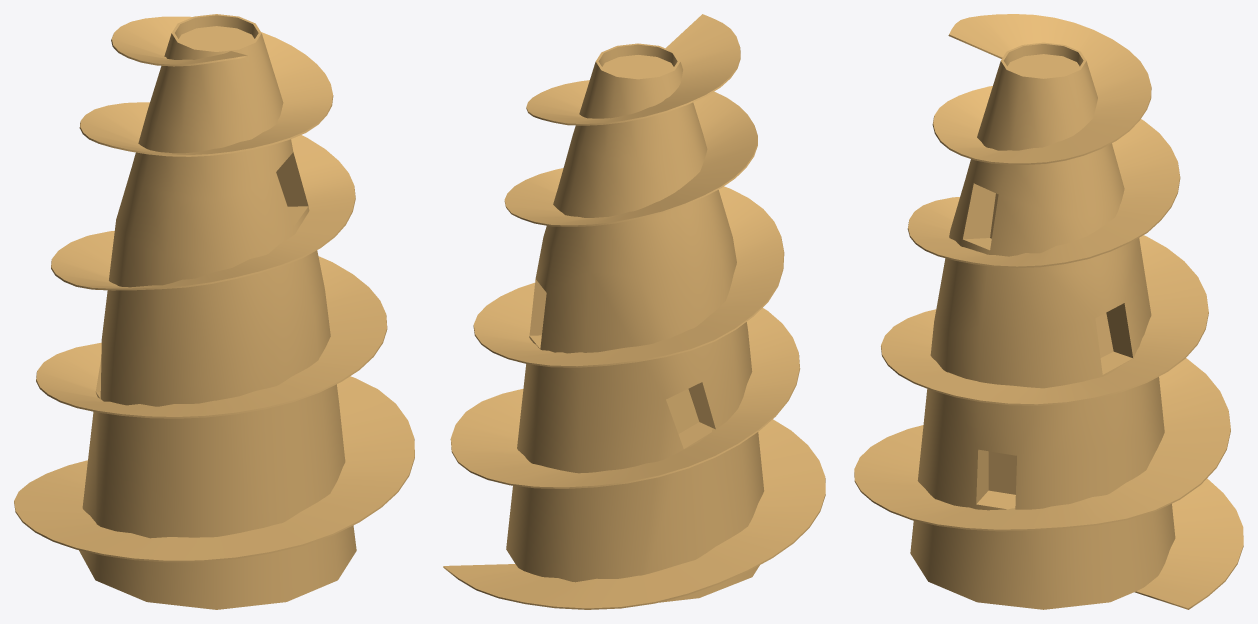
Rendered from Tower.fbx.
3 renders of one model, left to right at view 1: azimuth 30°, elevation 25°; view 2: azimuth 150°, elevation 25°; view 3: azimuth 270°, elevation 25°, orthographic. The views are drawn at different scales.
Parts seen in each view (by area): view 1: Tower; view 2: Tower; view 3: Tower.
Boxes of the visible parts, bbox=[...] form: Tower: bbox=[14, 14, 414, 609]; Tower: bbox=[443, 14, 825, 609]; Tower: bbox=[854, 14, 1243, 609].
Size of the model in its own units: 3373 by 5038 by 3457.
